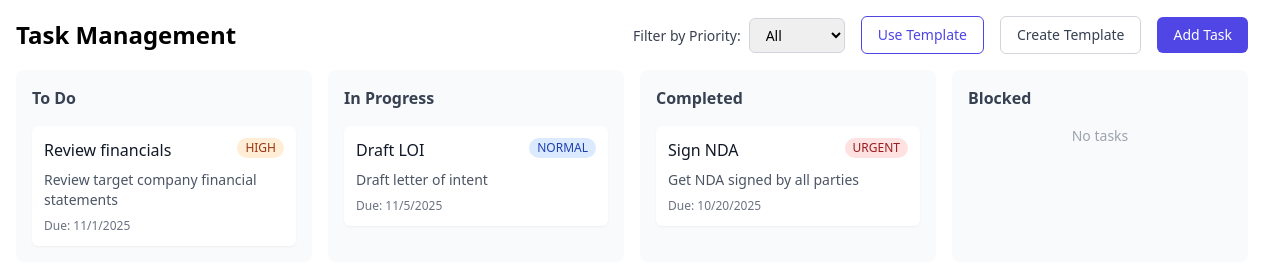
Test case: TaskBoard › filters tasks by priority when filter is applied
Expected: the heading "Review financials" is shown, x1=44 y1=138 x2=171 y2=162
Expected: the heading "Draft LOI" is shown, x1=356 y1=138 x2=424 y2=162
Apply high priority filter
Step 1. Select "High" in the dropdown labelled "Filter by Priority:" → (797, 35), box x1=749 y1=18 x2=845 y2=52
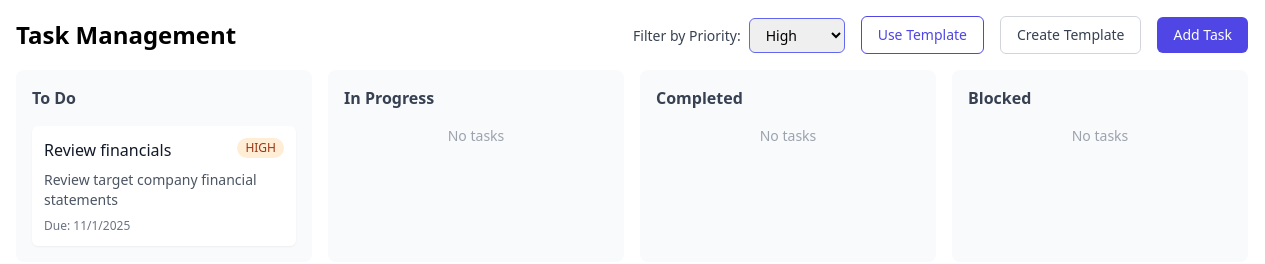
Expected: the heading "Review financials" is shown, x1=44 y1=138 x2=171 y2=162
Result: the heading "Draft LOI" is gone
